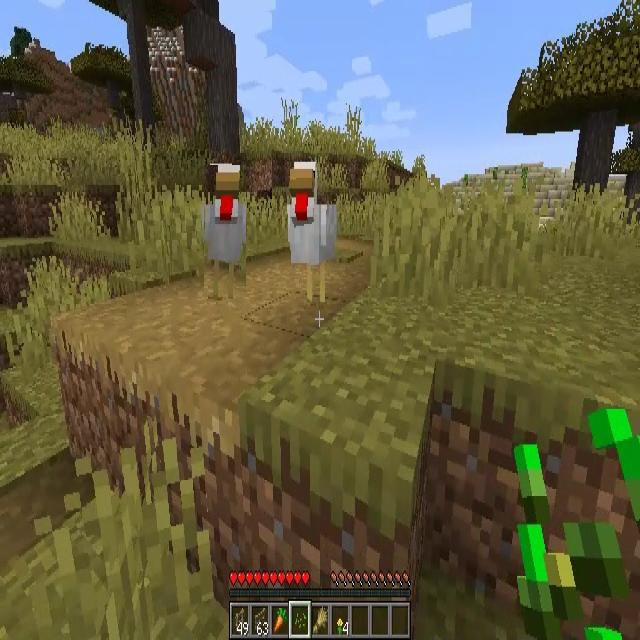duck: (287, 158, 342, 312), (204, 165, 246, 301)
